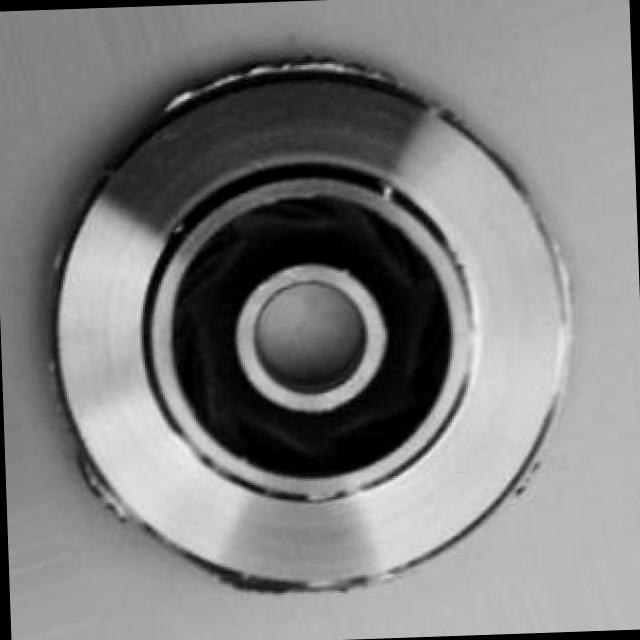Defect: (232, 44, 393, 87)
